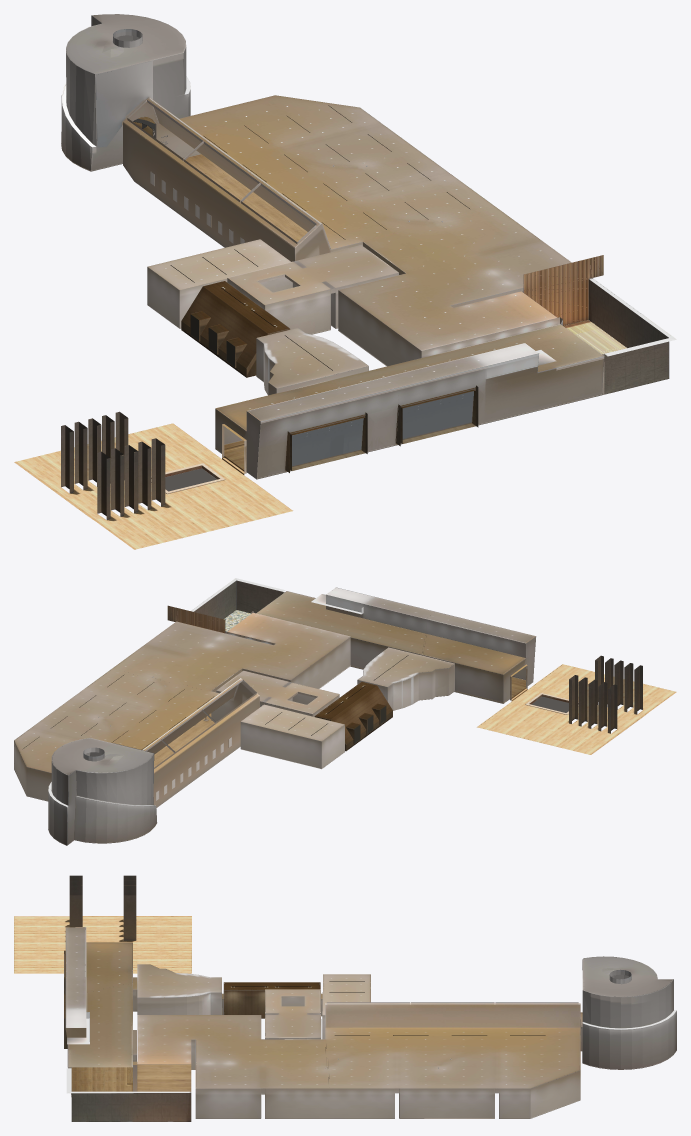
Rendered from artSpace.glb.
3 renders of one model, top to bottom at view 1: azimuth 30°, elevation 25°; view 2: azimuth 150°, elevation 25°; view 3: azimuth 270°, elevation 25°, orthographic. The views are drawn at different scales.
Visible parts, largest first — view 1: gallery_low; view 2: gallery_low; view 3: gallery_low.
Part boxes in pixels (left/top/right/bottom): gallery_low: left=14, top=14, right=676, bottom=549; gallery_low: left=14, top=578, right=676, bottom=845; gallery_low: left=14, top=875, right=676, bottom=1121.
Bounding box in the file's own units: 60.41 × 11.75 × 79.33.
Materials: 27 (25 with a texture image).
